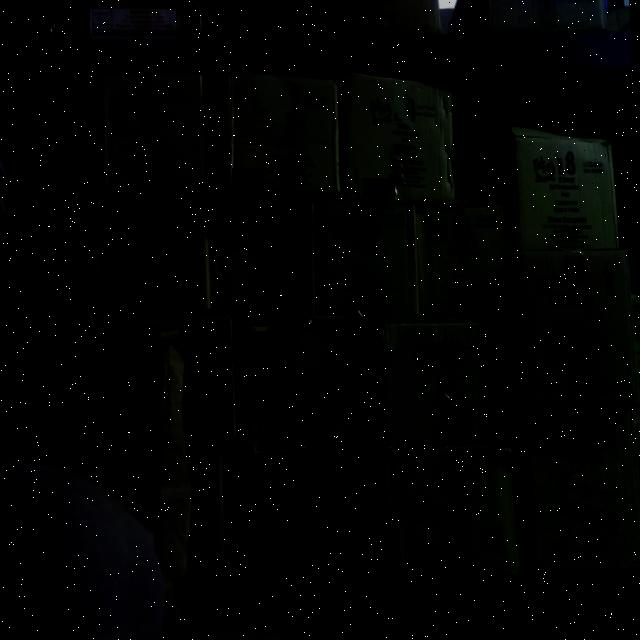box: (517, 400, 640, 581), (232, 440, 381, 582), (380, 439, 524, 582), (517, 248, 639, 414), (96, 308, 238, 450), (240, 312, 378, 455), (98, 445, 228, 592), (376, 317, 516, 450), (338, 66, 458, 208), (227, 64, 346, 202), (88, 186, 212, 318), (308, 194, 421, 327), (508, 126, 620, 259), (102, 66, 208, 196), (210, 190, 312, 324), (412, 202, 511, 325)
